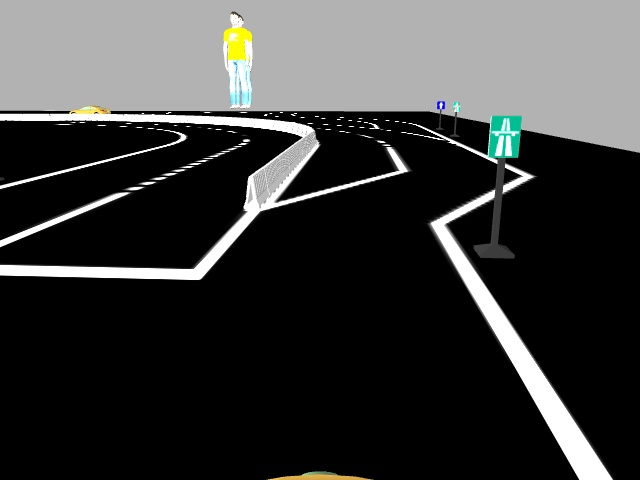HighwayEntrance: (487, 111, 519, 158)
